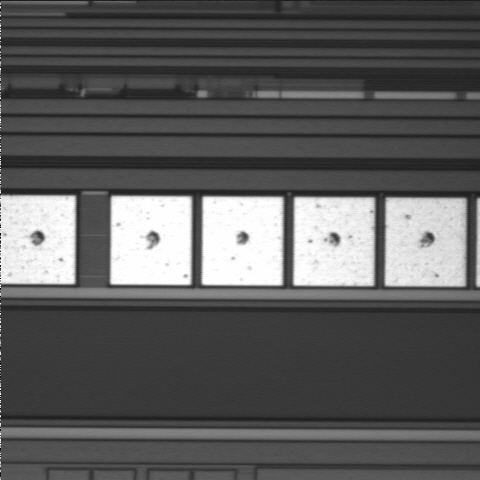pad: (110, 196, 192, 285), (202, 197, 283, 286), (293, 197, 374, 286), (385, 198, 466, 286)
